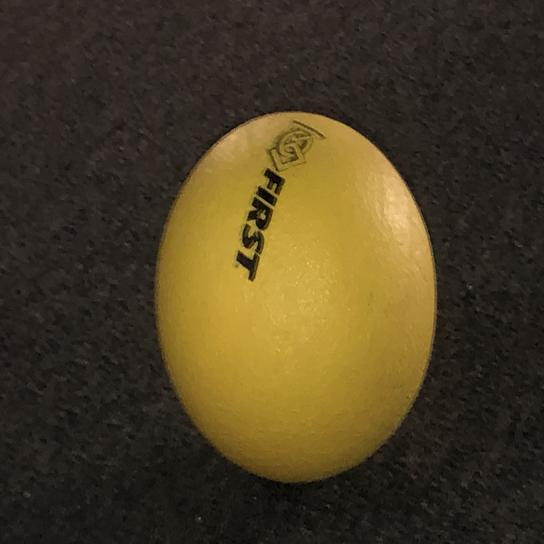ball: (142, 99, 443, 487)
